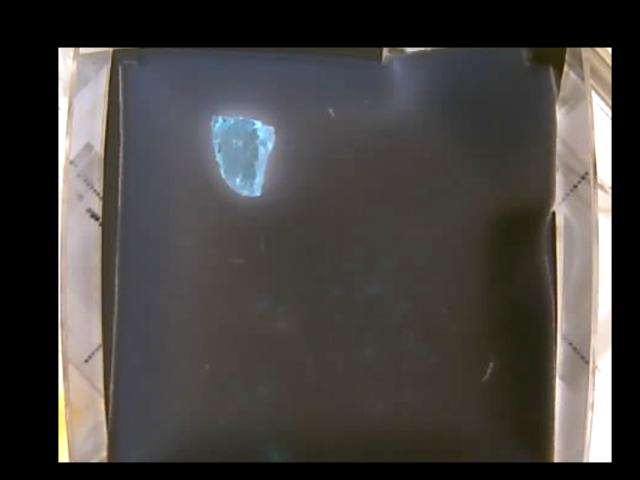Brisk: (210, 111, 276, 197)
